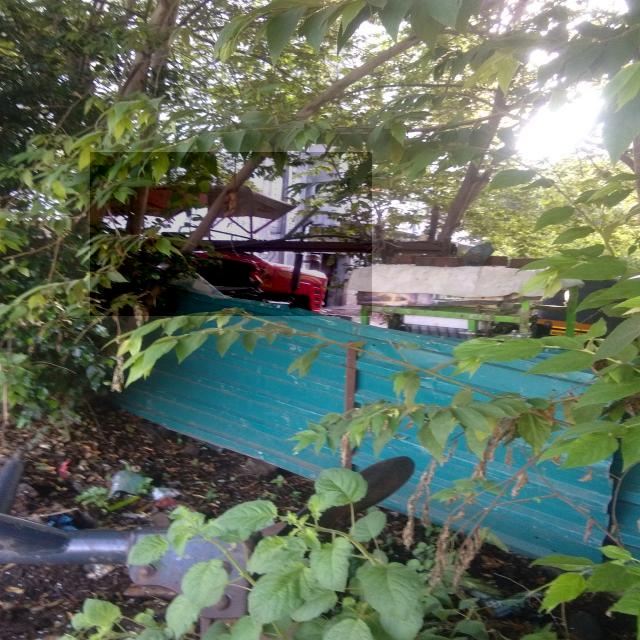Tractot: (90, 152, 372, 316)
